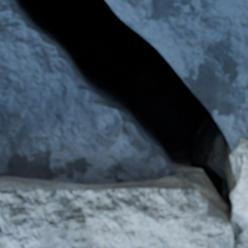broken_brick: (0, 175, 231, 247), (231, 137, 247, 241)
crack: (1, 0, 247, 247)
